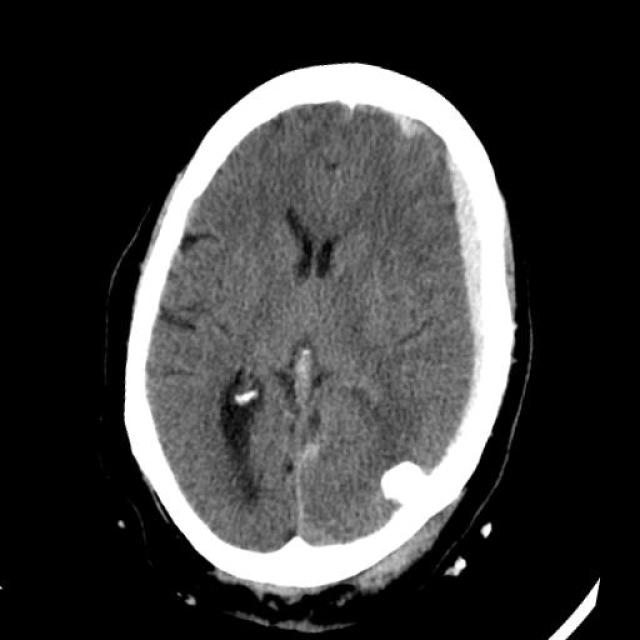Subdural: (374, 130, 537, 469)
